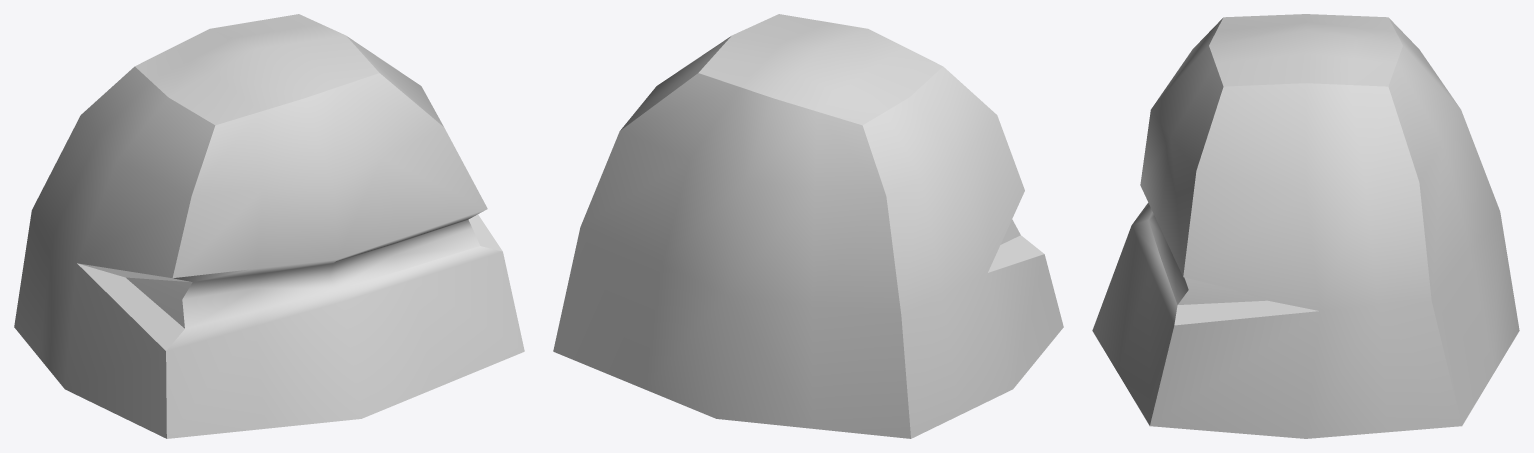
Rendered from obj_rock_2.fbx.
3 renders of one model, left to right at view 1: azimuth 30°, elevation 25°; view 2: azimuth 150°, elevation 25°; view 3: azimuth 270°, elevation 25°, orthographic. The views are drawn at different scales.
Parts seen in each view (by area): view 1: obj_rock_2; view 2: obj_rock_2; view 3: obj_rock_2.
Boxes of the visible parts, x1=… form: obj_rock_2: x1=14, y1=14, x2=524, y2=438; obj_rock_2: x1=553, y1=14, x2=1063, y2=438; obj_rock_2: x1=1092, y1=14, x2=1519, y2=438.
Bounding box in the file's own units: 1.09 × 0.7505 × 0.9684.
Materials: 1 (1 with a texture image).
